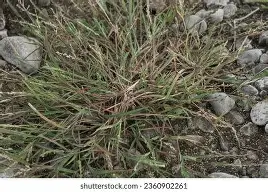weed: (0, 0, 232, 176)
